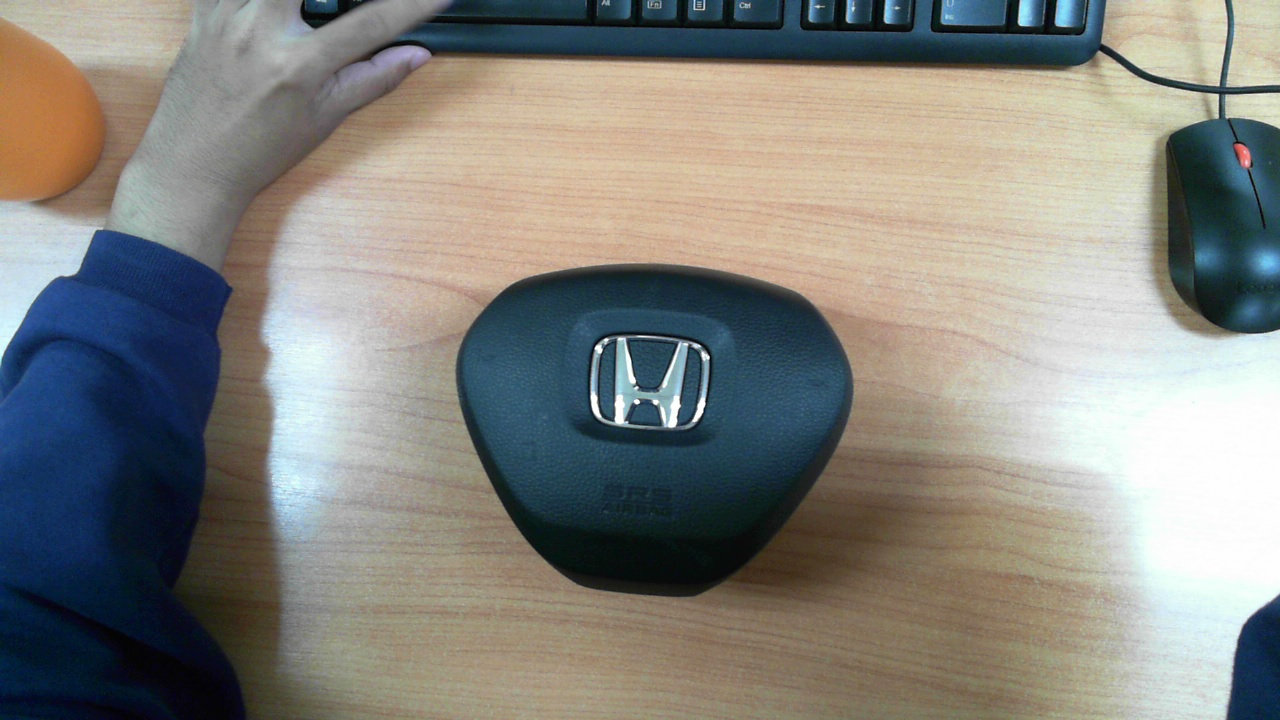Airbag: (456, 264, 855, 598)
